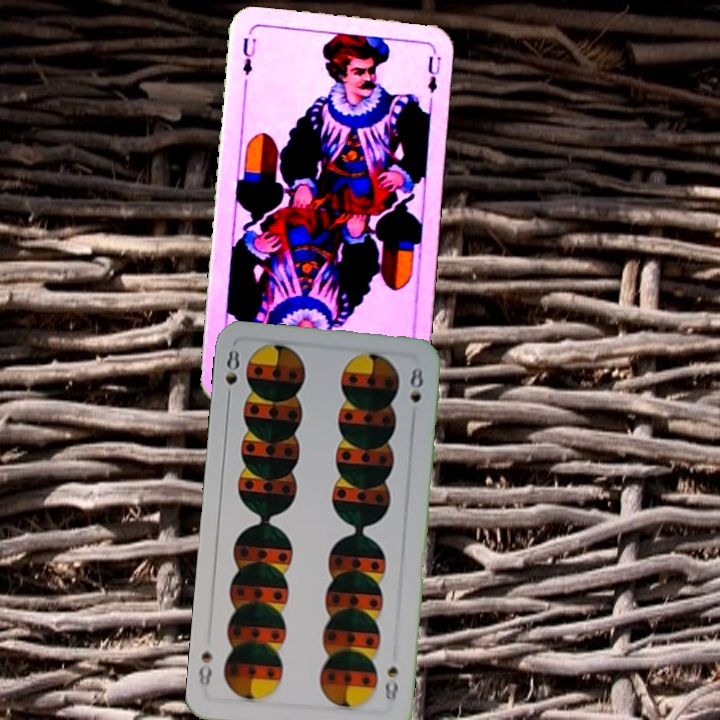EU: (238, 34, 259, 78)
S8: (221, 346, 242, 404), (380, 662, 401, 706)
